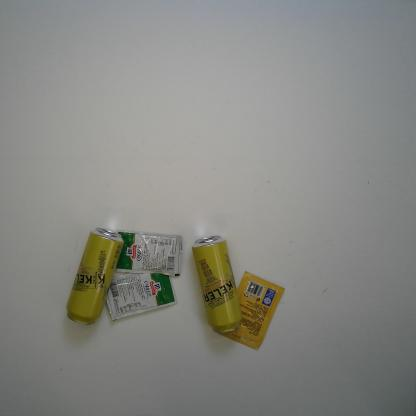Alcohol: (65, 227, 125, 326), (191, 234, 244, 334)
Seasoner: (217, 271, 286, 351), (106, 272, 178, 322), (115, 229, 182, 277)
